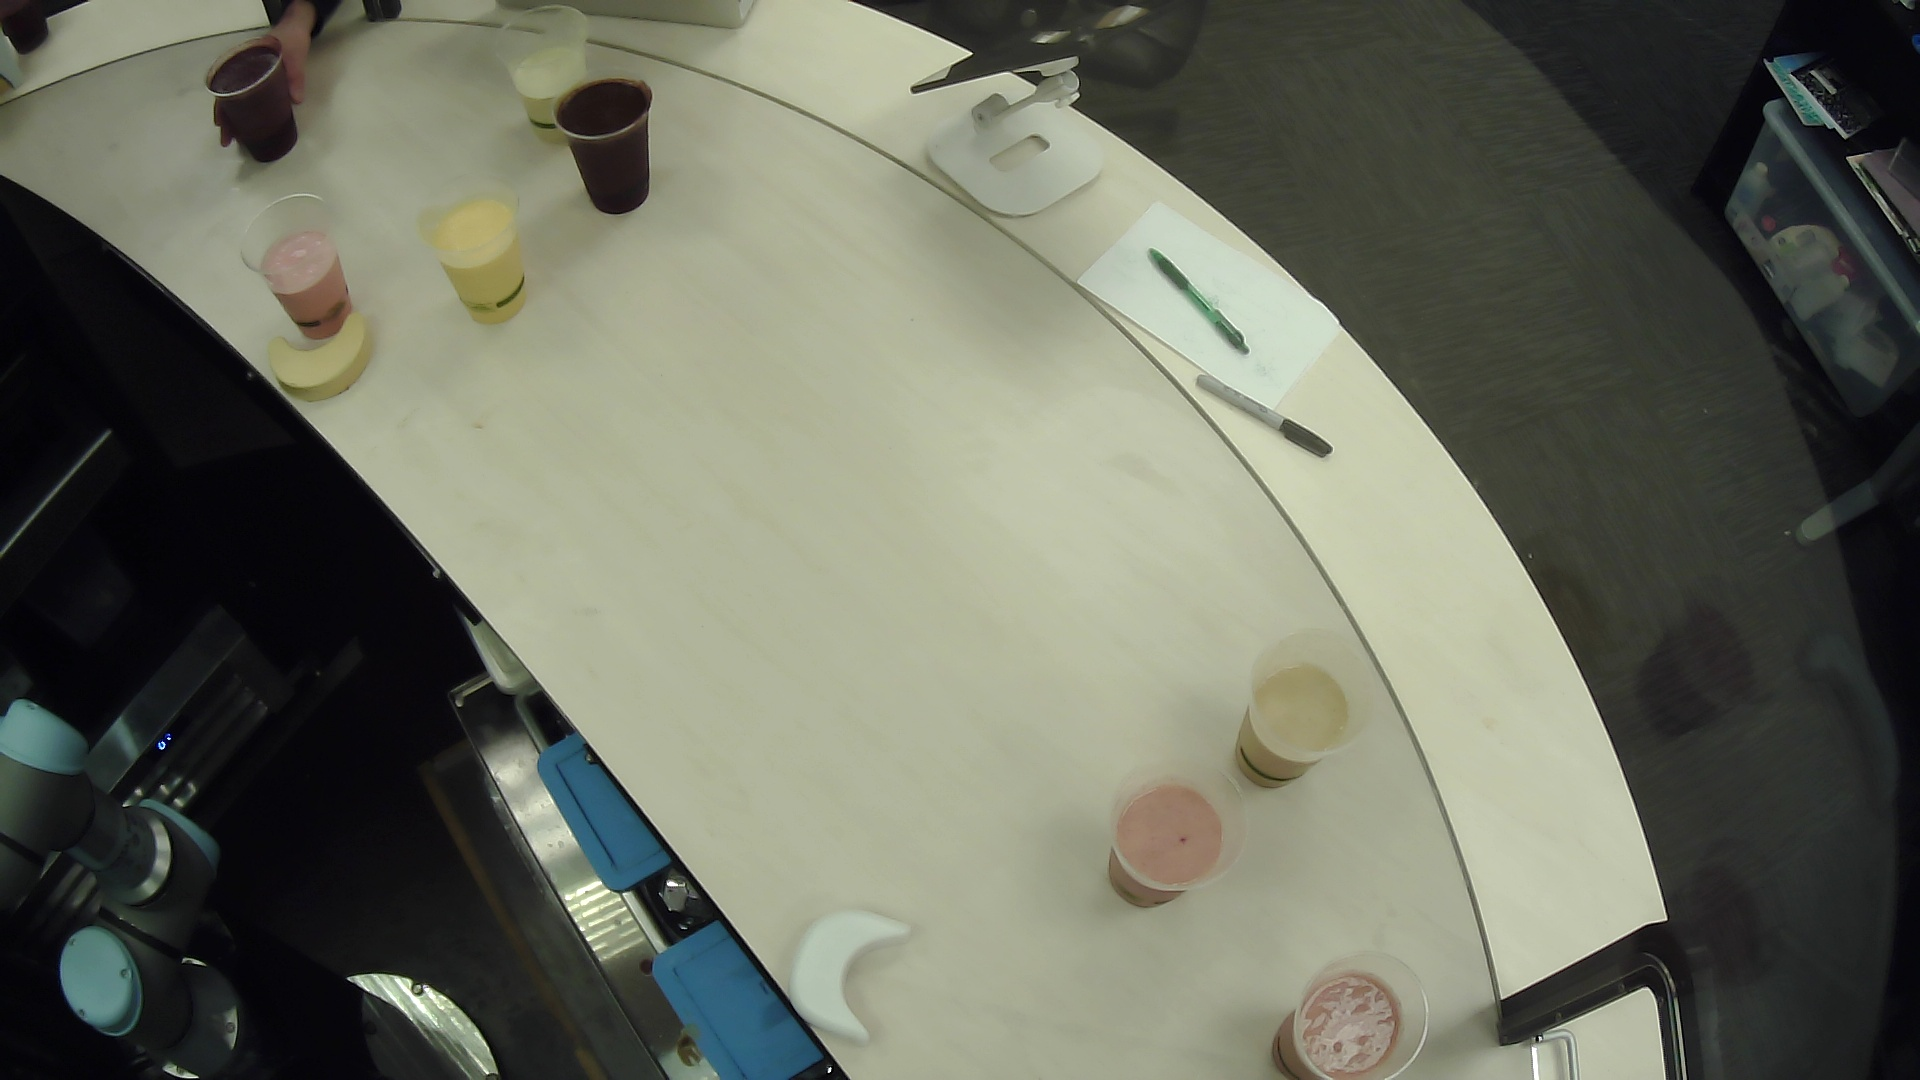Deliver: (770, 884, 935, 1056), (251, 301, 410, 422)
Full_cup: (1081, 750, 1257, 916), (1246, 942, 1455, 1080), (1217, 629, 1381, 800), (229, 186, 378, 345), (407, 177, 556, 332), (487, 3, 617, 160), (200, 26, 324, 174), (549, 69, 669, 220)
